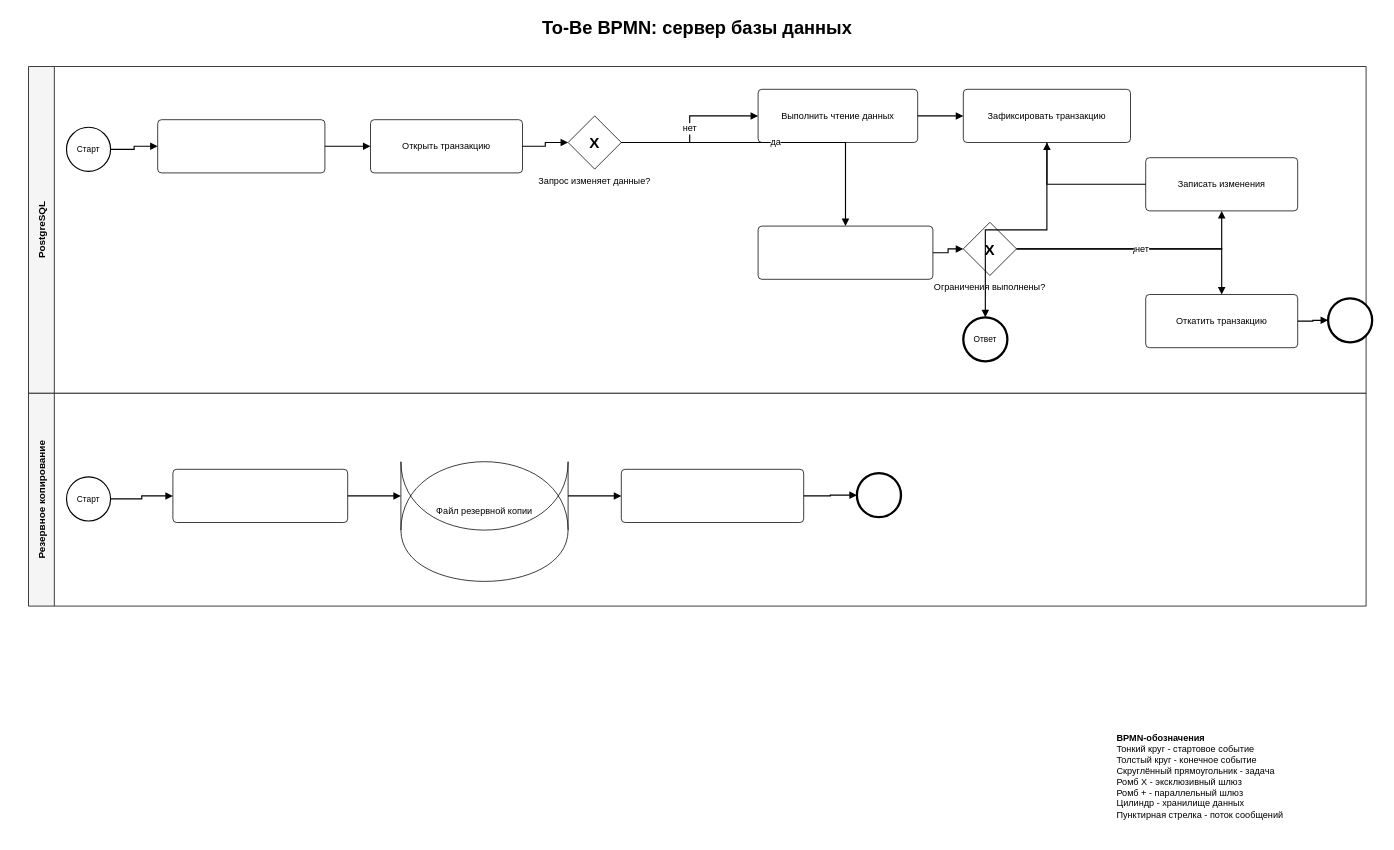
The diagram is 1394 pixels wide and 850 high, and some of its shapes have lost their labels. The box of each missing label's shape, as (x1, y1, x2, y2) in pixels:
Выполнить pg_dump по расписанию: (172, 469, 348, 522)
Конец: (855, 472, 902, 518)
Ошибка: (1327, 297, 1373, 343)
Получить SQL-запрос от приложения: (157, 119, 325, 173)
Проверить ограничения целостности: (757, 225, 933, 279)
Удалить копии старше срока хранения: (621, 469, 804, 522)
